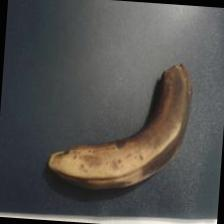Banana Rotten: (35, 130, 198, 204), (130, 55, 199, 184)
